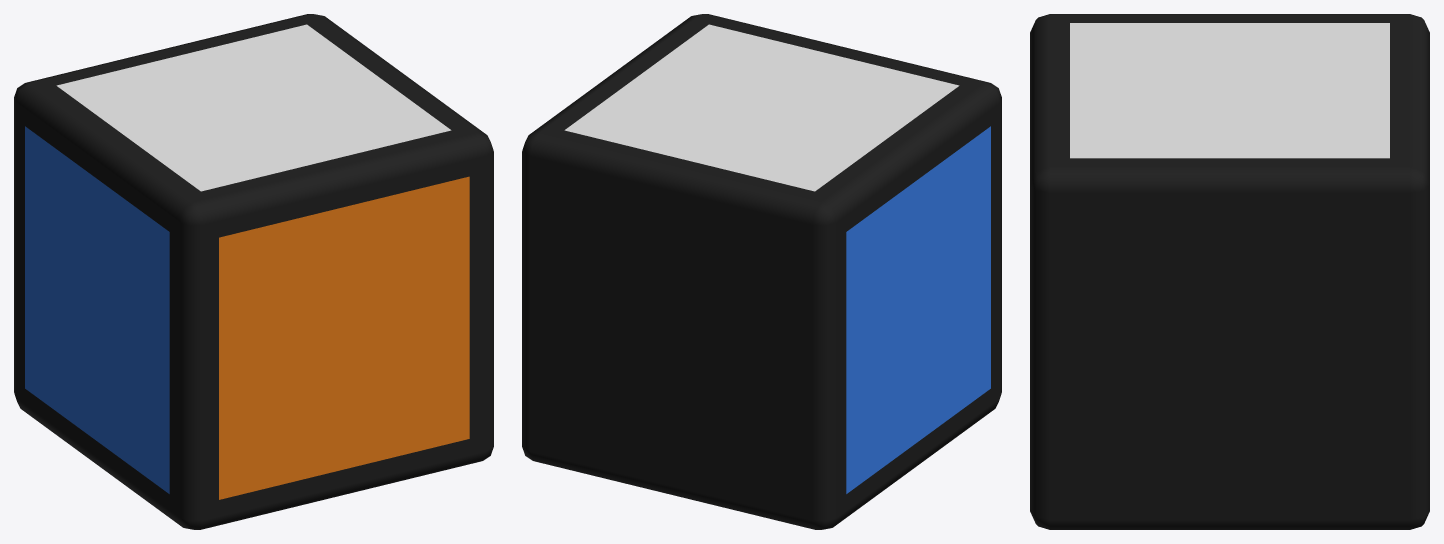
The picture shows the model from 3 angles, left to right: view 1: azimuth 30°, elevation 25°; view 2: azimuth 150°, elevation 25°; view 3: azimuth 270°, elevation 25°; orthographic projection. The views are drawn at different scales.
Visible parts, largest first — view 1: 19; view 2: 19; view 3: 19.
Part boxes in pixels (x1=…): 19: x1=14, y1=14, x2=493, y2=529; 19: x1=522, y1=14, x2=1001, y2=529; 19: x1=1030, y1=14, x2=1429, y2=529.
Bounding box in the file's own units: 2 × 2 × 2.
